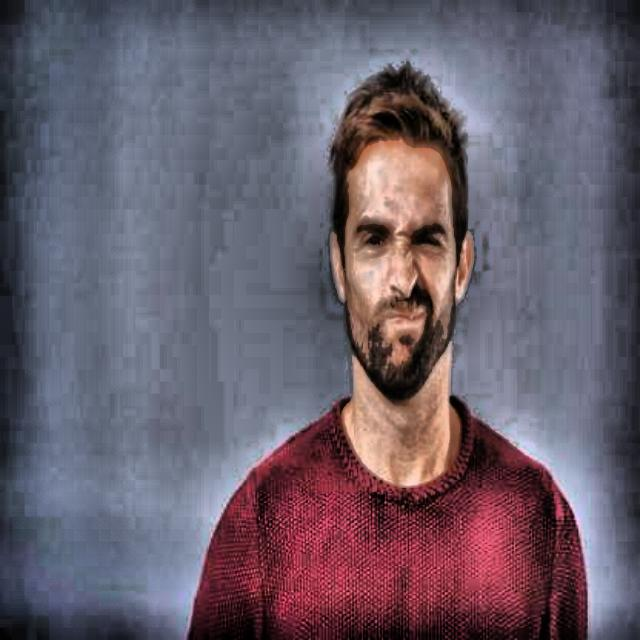disgust: (311, 55, 491, 422)
